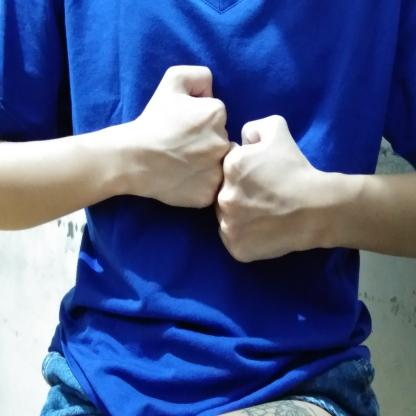brother: (117, 58, 323, 276)
